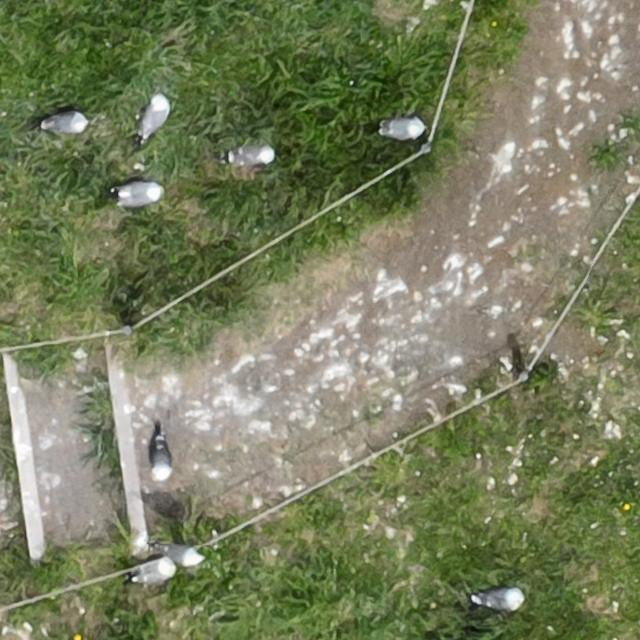umineko: (132, 562, 178, 588), (143, 97, 170, 136), (44, 113, 86, 134), (119, 183, 159, 205), (482, 588, 524, 608), (232, 146, 273, 166), (386, 118, 423, 139), (152, 440, 171, 479), (168, 547, 202, 566)
